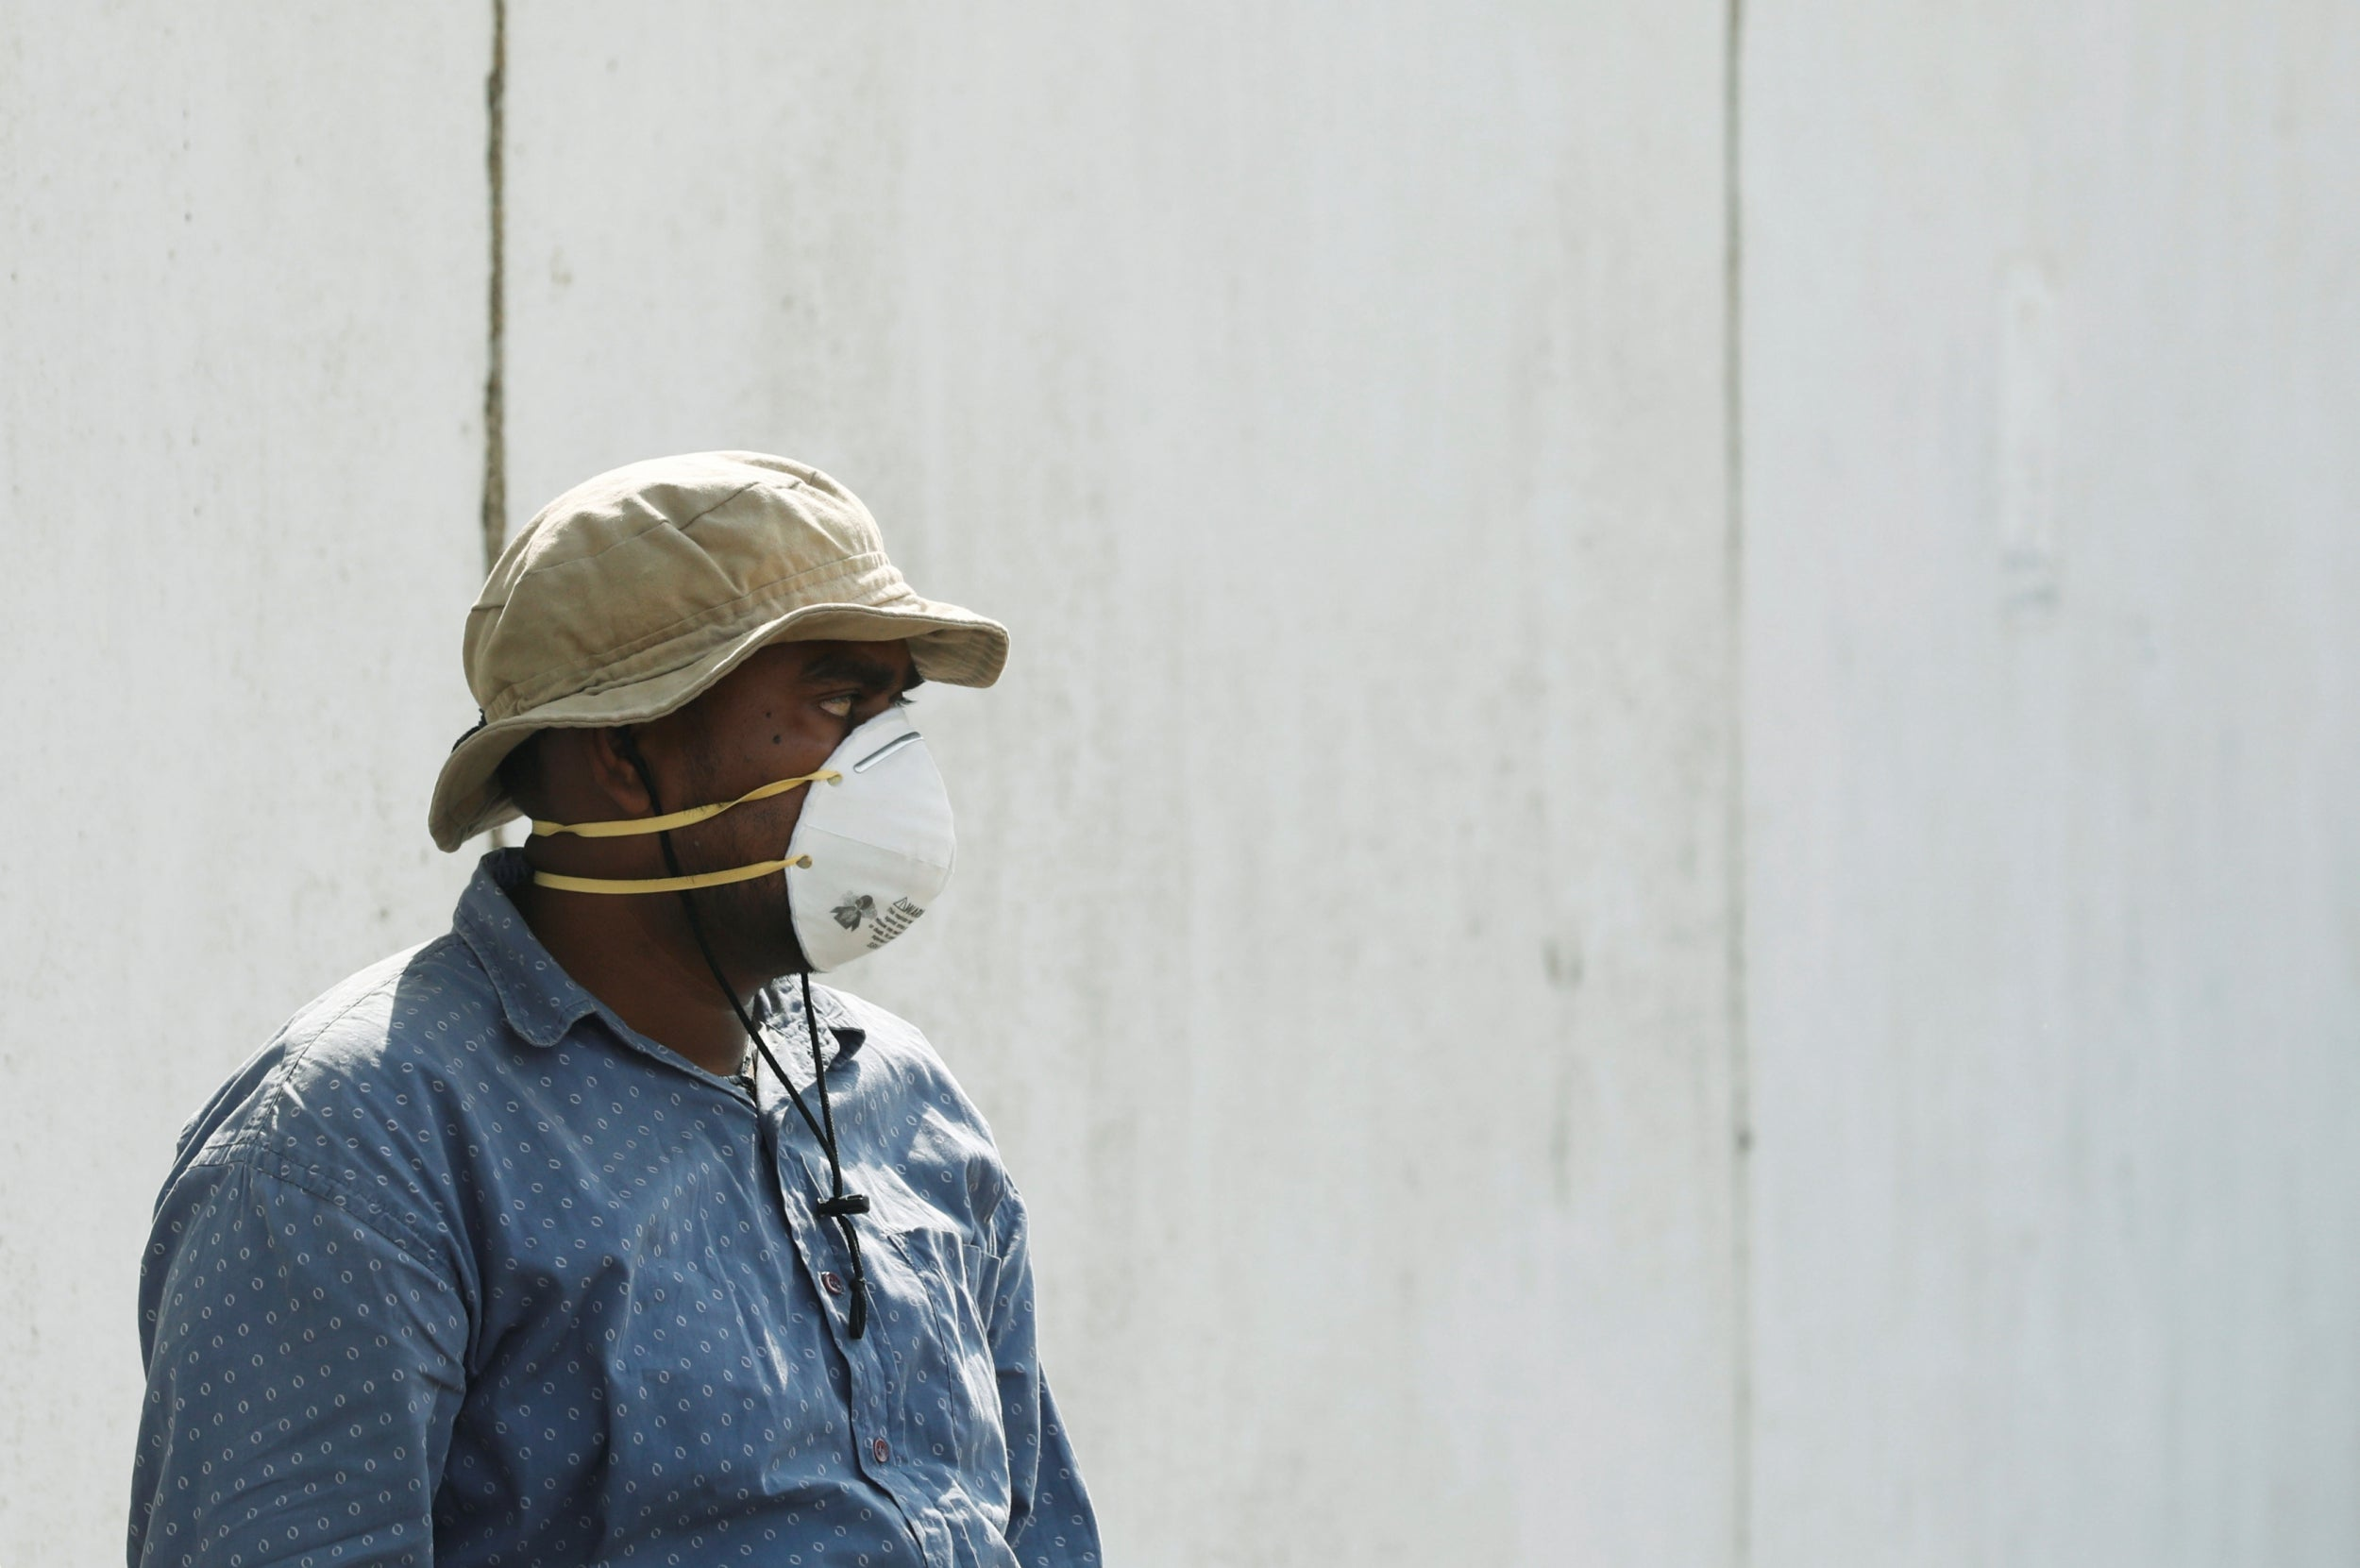n95: (767, 687, 975, 985)
